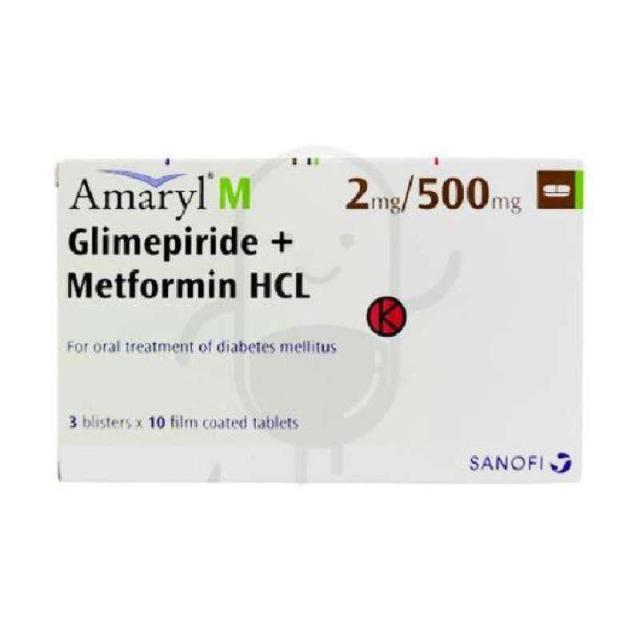drug-name: (68, 172, 252, 220)
